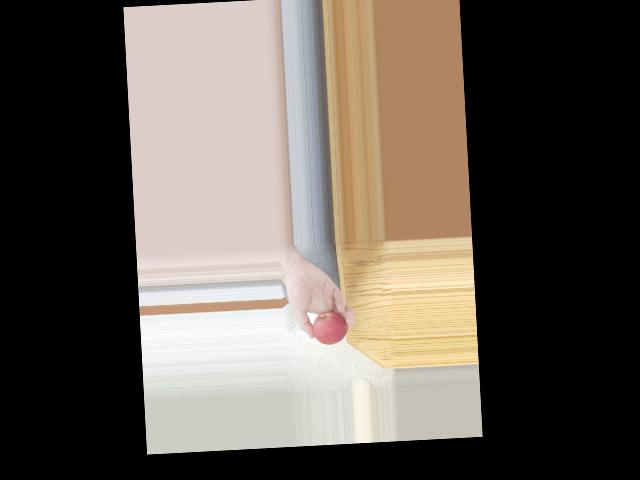apple: (310, 307, 348, 345)
